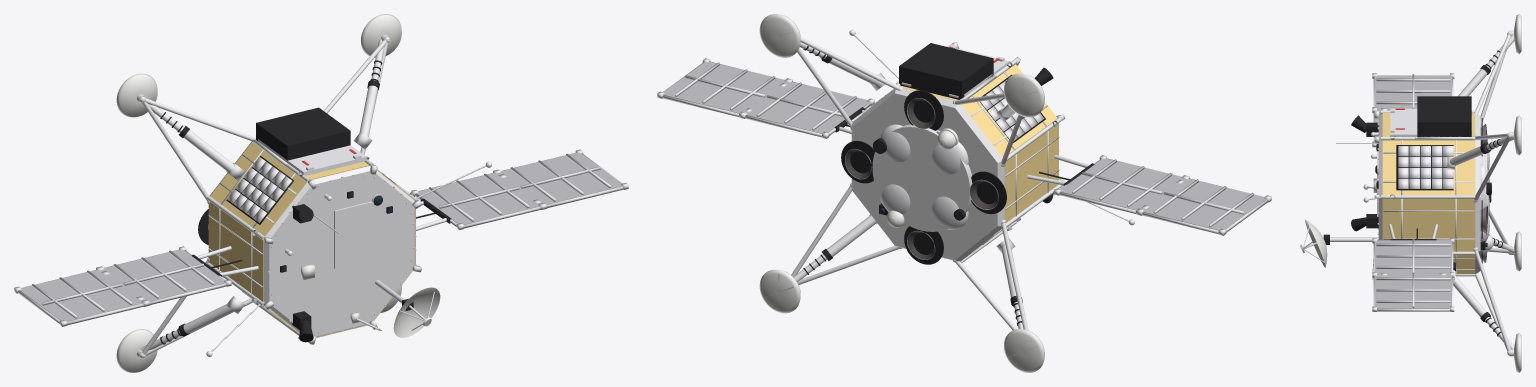
File: lander_B.obj
3 renders of one model, left to right at view 1: azimuth 30°, elevation 25°; view 2: azimuth 150°, elevation 25°; view 3: azimuth 270°, elevation 25°, orthographic. The views are drawn at different scales.
Parts seen in each view (by area): view 1: top_radiator, deck_body, rover_bay_cutter, wing_starboard_panel2_substrate, wing_starboard_panel1_substrate, wing_port_panel2_substrate, wing_port_panel1_substrate, radiator_fins, radiator_osr_tiles, corner_longerons, antenna_dish, ramp_panel (+19 smaller); view 2: bottom_deck, interface_ring, deck_body, underside_heat_shields, rover_bay_cutter, wing_starboard_panel2_substrate, wing_port_panel2_substrate, wing_starboard_panel1_substrate, wing_port_panel1_substrate, leg1_footpad, leg3_footpad, leg0_footpad (+22 smaller); view 3: deck_body, radiator_osr_tiles, rover_bay_cutter, wing_port_panel2_substrate, wing_port_panel1_substrate, wing_starboard_panel2_substrate, corner_longerons, wing_port_panel2_back_ribs, wing_port_panel1_back_ribs, mli_seams_tape, ramp_panel, bottom_deck (+21 smaller).
Boxes of the visible parts, box(x1,y1,x2,y2) form: top_radiator: box(264, 166, 415, 337); deck_body: box(208, 142, 415, 337); rover_bay_cutter: box(256, 107, 350, 160); wing_starboard_panel2_substrate: box(19, 270, 143, 321); wing_starboard_panel1_substrate: box(101, 249, 225, 301); wing_port_panel2_substrate: box(499, 153, 622, 204); wing_port_panel1_substrate: box(416, 173, 540, 224); radiator_fins: box(334, 201, 374, 268); radiator_osr_tiles: box(227, 157, 400, 222); corner_longerons: box(207, 138, 422, 344); antenna_dish: box(393, 287, 440, 337); ramp_panel: box(258, 139, 366, 175); bottom_deck: box(851, 88, 1004, 261); interface_ring: box(872, 124, 972, 231); deck_body: box(900, 61, 1058, 258); underside_heat_shields: box(841, 90, 1006, 264); rover_bay_cutter: box(899, 43, 993, 99); wing_starboard_panel2_substrate: box(1143, 178, 1266, 230); wing_port_panel2_substrate: box(663, 61, 786, 113); wing_starboard_panel1_substrate: box(1060, 158, 1183, 210); wing_port_panel1_substrate: box(745, 81, 869, 133); leg1_footpad: box(759, 14, 800, 57); leg3_footpad: box(1004, 329, 1044, 372); leg0_footpad: box(759, 269, 800, 313); deck_body: box(1382, 113, 1475, 273); radiator_osr_tiles: box(1398, 146, 1453, 188); rover_bay_cutter: box(1417, 96, 1471, 136); wing_port_panel2_substrate: box(1374, 274, 1451, 308); wing_port_panel1_substrate: box(1374, 240, 1451, 274); wing_starboard_panel2_substrate: box(1374, 75, 1451, 109); corner_longerons: box(1374, 110, 1475, 276); wing_port_panel2_back_ribs: box(1376, 273, 1450, 307); wing_port_panel1_back_ribs: box(1376, 239, 1450, 272); mli_seams_tape: box(1383, 140, 1474, 274); ramp_panel: box(1390, 108, 1460, 136); bottom_deck: box(1475, 114, 1480, 273).
Size of the model in its own units: 7.19 by 3.62 by 2.86.
Materials: 12 (12 with a texture image).
